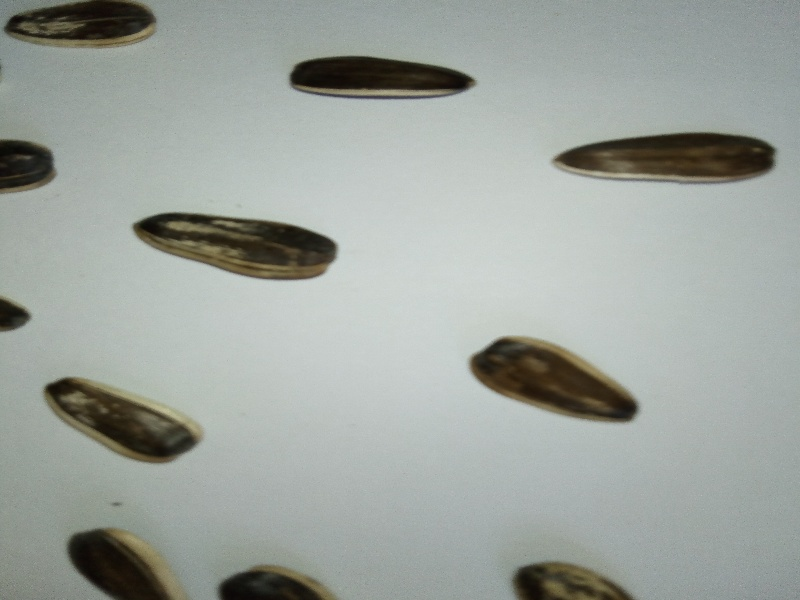girasol: (461, 329, 644, 436), (128, 208, 348, 291), (35, 372, 211, 471), (549, 126, 785, 191), (284, 51, 489, 106), (4, 2, 166, 54)
